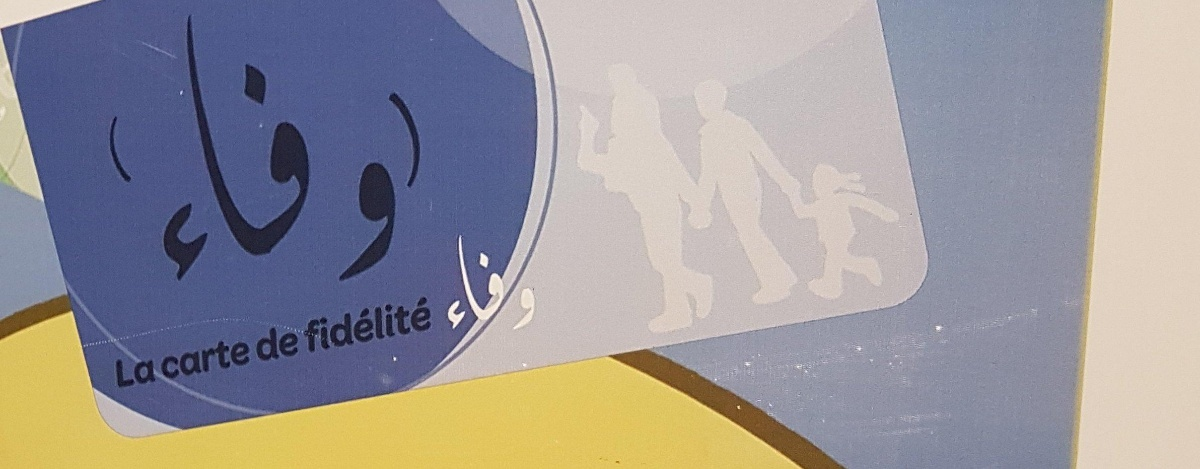text: (193, 4, 208, 295), (209, 4, 224, 295), (225, 4, 240, 295), (241, 4, 256, 295), (257, 4, 272, 295), (273, 4, 288, 295), (289, 4, 304, 295), (305, 4, 320, 295), (321, 4, 336, 295), (337, 4, 352, 295), (353, 4, 368, 295), (369, 4, 384, 295), (385, 4, 400, 295), (433, 218, 448, 346), (449, 218, 464, 346), (465, 218, 480, 346), (481, 218, 496, 346), (497, 218, 512, 346), (513, 218, 528, 346), (529, 218, 543, 346), (188, 4, 192, 295), (305, 294, 320, 355), (321, 294, 336, 355), (337, 294, 352, 355), (353, 294, 368, 355), (369, 294, 384, 355), (385, 294, 400, 355), (401, 294, 416, 355), (417, 294, 432, 355), (161, 335, 176, 384), (177, 335, 192, 384), (193, 335, 208, 384), (209, 335, 224, 384), (225, 335, 240, 384), (257, 325, 272, 366), (273, 325, 288, 366), (129, 352, 144, 389), (241, 335, 252, 384), (289, 325, 302, 366), (114, 352, 128, 389), (145, 352, 158, 389), (299, 294, 304, 355), (401, 4, 402, 295), (430, 218, 432, 346), (253, 325, 256, 366), (433, 294, 435, 355), (159, 335, 160, 384)
